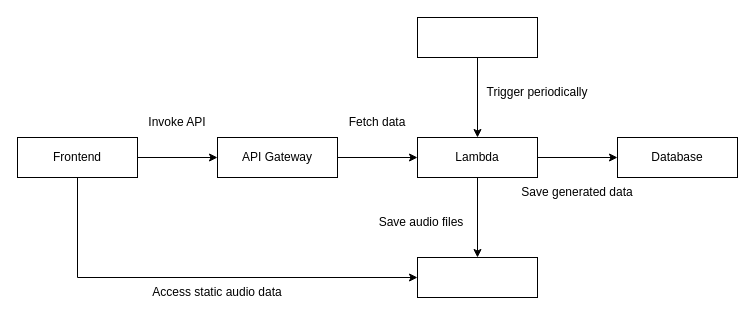
Image size: 755x325. Some labels were removed from this diagram. The shapes that lost their labels are listed below. From the top down, each one's box as (x1, y1, x2, y2) in pixels, then its label:
(416, 16, 538, 58): Cloudwatch Event
(416, 256, 538, 298): S3
